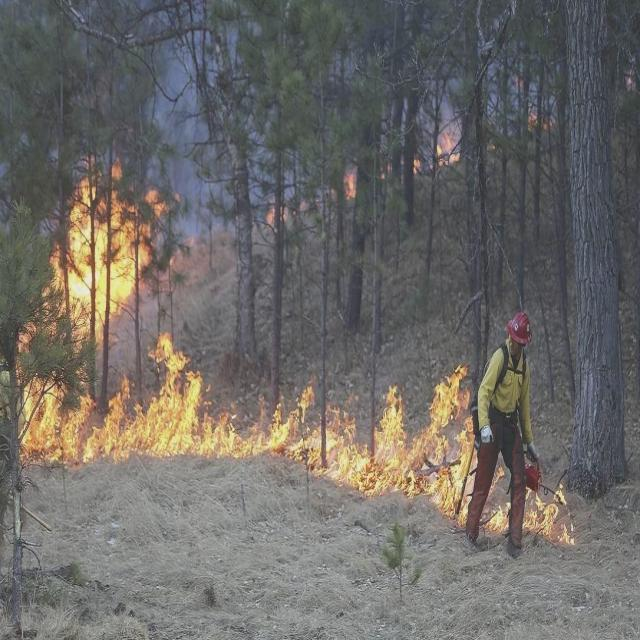Fire: (15, 134, 575, 548)
Smoke: (144, 1, 296, 273), (487, 57, 556, 136), (413, 77, 463, 170)
